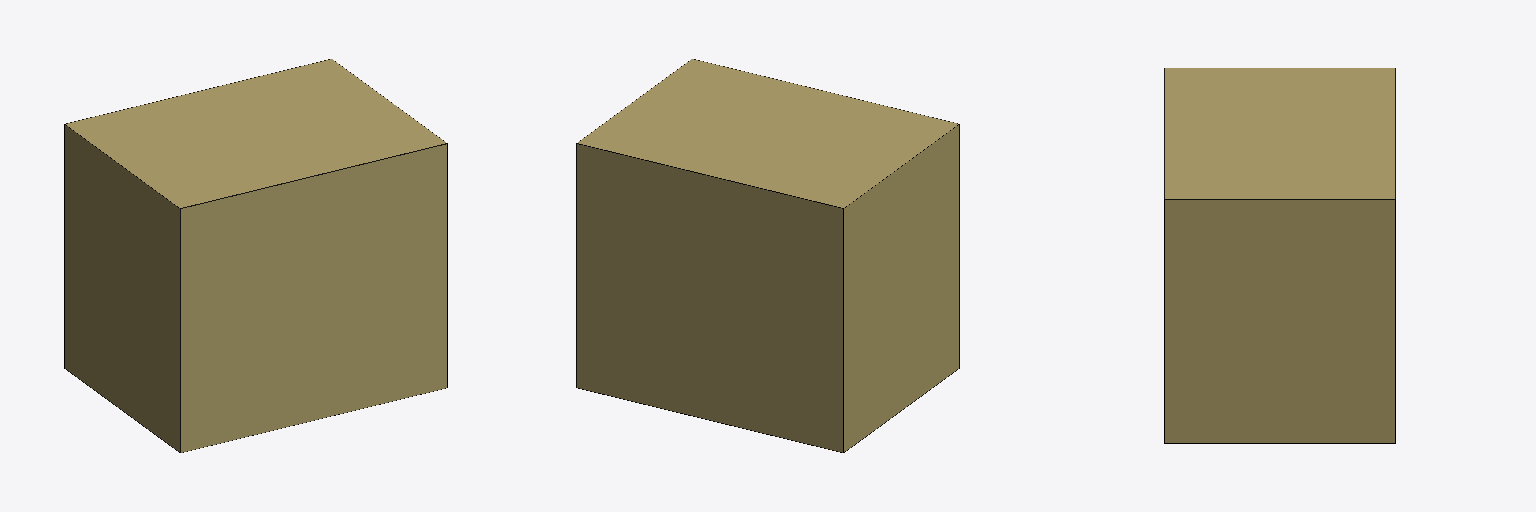
3 views of the same model, side by side, from view 1: azimuth 30°, elevation 25°; view 2: azimuth 150°, elevation 25°; view 3: azimuth 270°, elevation 25° (orthographic).
Parts seen in each view (by area): view 1: Bulkhead_wall_mid_Cube.004; view 2: Bulkhead_wall_mid_Cube.004; view 3: Bulkhead_wall_mid_Cube.004.
Boxes of the visible parts, box(x1,y1,x2,y2) form: Bulkhead_wall_mid_Cube.004: box(64, 59, 447, 452); Bulkhead_wall_mid_Cube.004: box(576, 59, 959, 452); Bulkhead_wall_mid_Cube.004: box(1164, 68, 1395, 443).
Bounding box in the file's own units: 2 × 1.75 × 1.5.
1 materials, 1 textured.